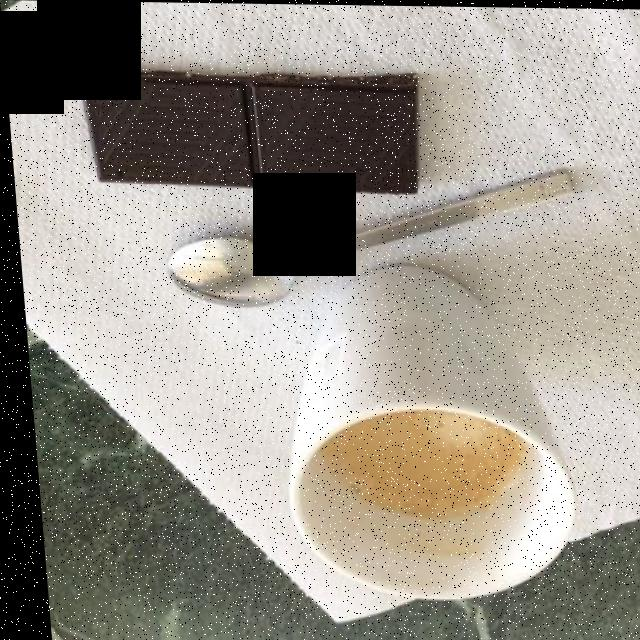coffee-decaffeinated: (311, 411, 518, 518)
coffee-with-caffeine: (311, 411, 518, 518)
dark-chocolate: (42, 47, 433, 199), (39, 64, 418, 206), (71, 63, 420, 194)
